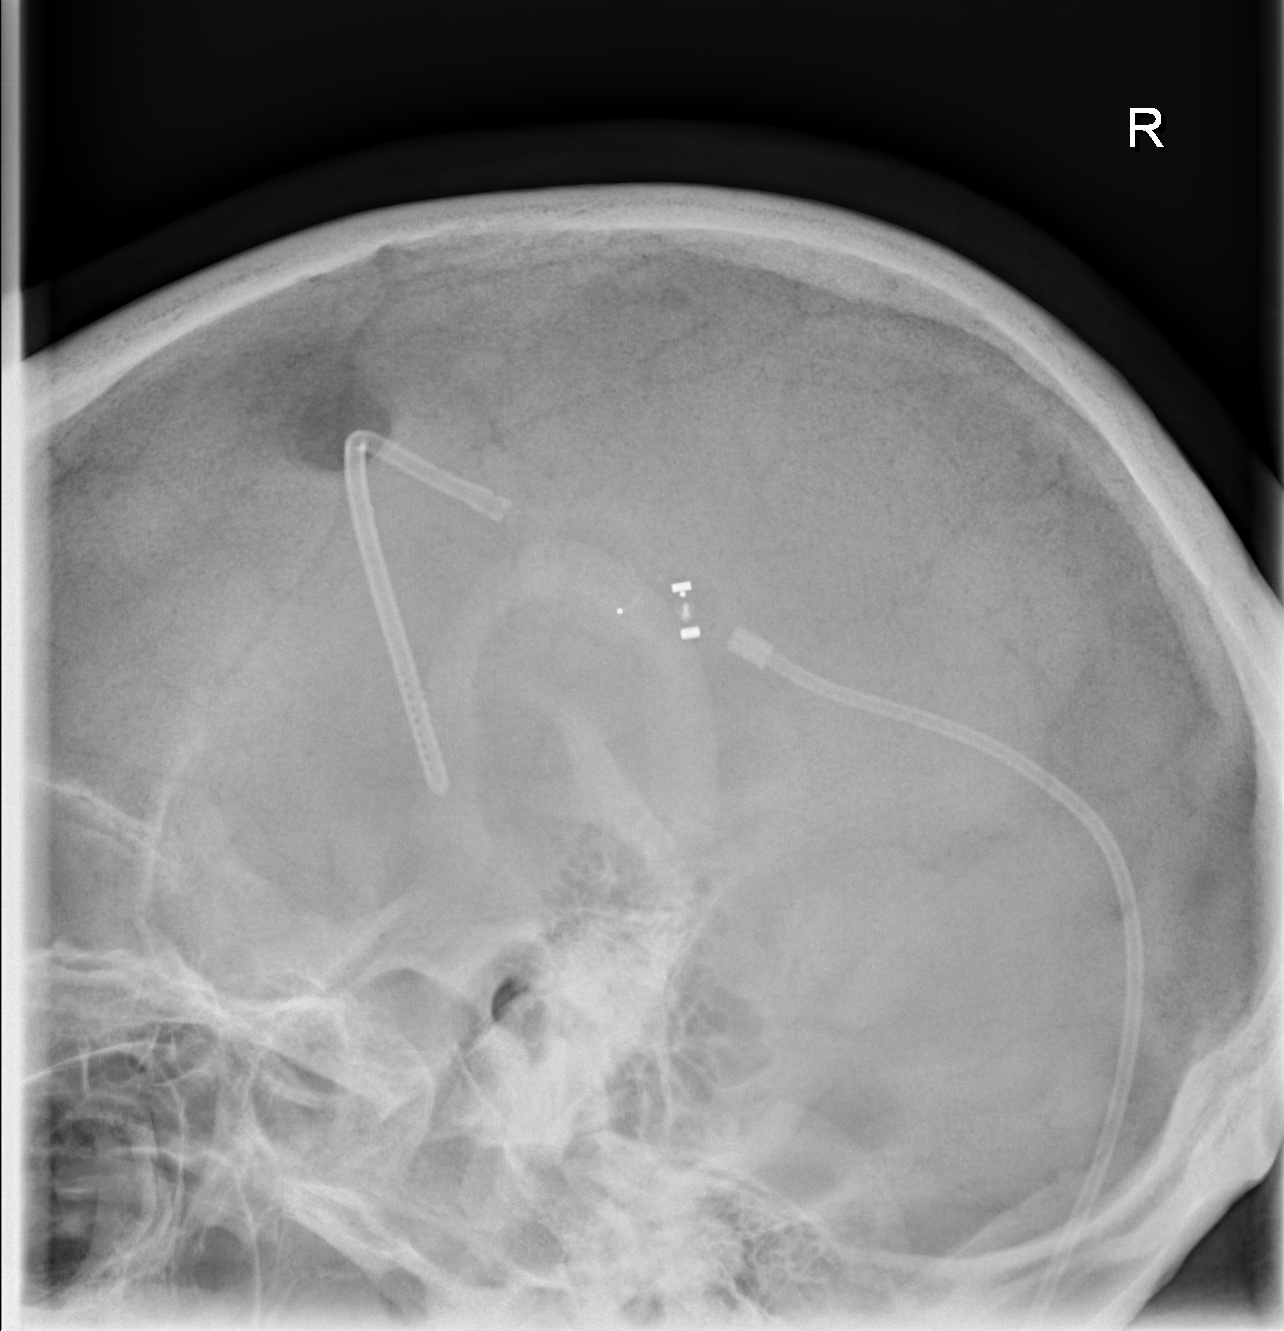Codman Certas: (602, 564, 730, 655)
